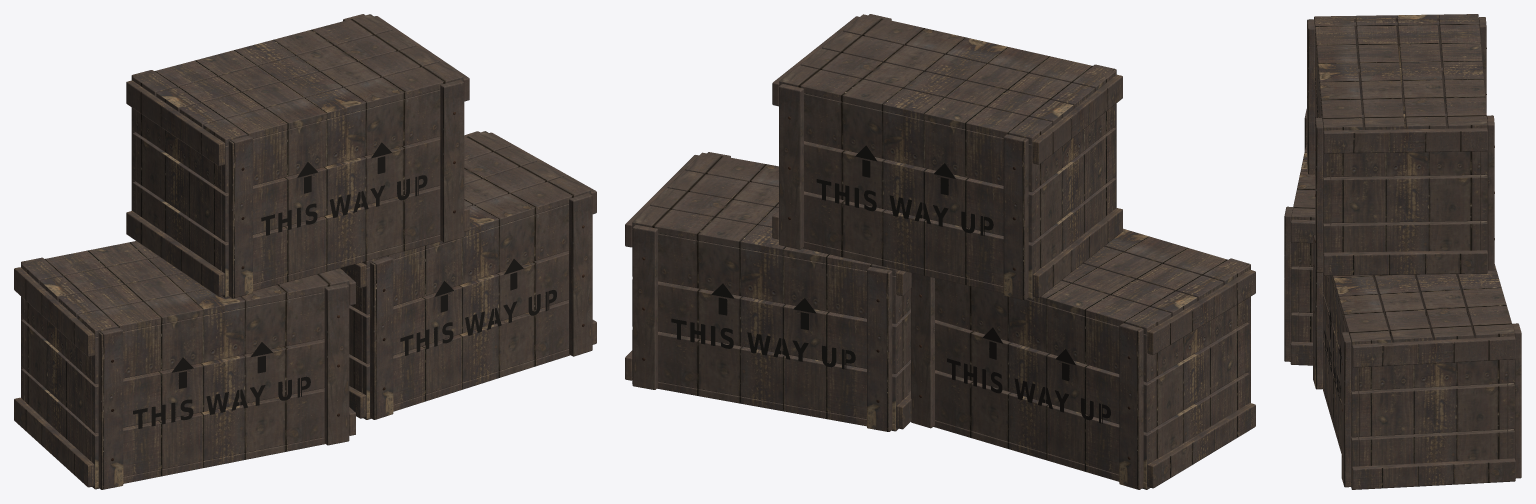
File: works-pop-up.glb
3 renders of one model, left to right at view 1: azimuth 30°, elevation 25°; view 2: azimuth 150°, elevation 25°; view 3: azimuth 270°, elevation 25°, orthographic. The views are drawn at different scales.
Parts seen in each view (by area): view 1: crate.008, crate.006, crate.007, stencil-front.006, stencil-front.008, stencil-front.007; view 2: crate.008, crate.006, crate.007, stencil-back.007, stencil-back.008, stencil-back.006; view 3: crate.008, crate.007, crate.006, stencil-front.007.
Boxes of the visible parts, left/top/right/bottom form: crate.008: left=126, top=14, right=469, bottom=298; crate.006: left=14, top=241, right=355, bottom=489; crate.007: left=340, top=131, right=596, bottom=419; stencil-front.006: left=133, top=342, right=310, bottom=428; stencil-front.008: left=261, top=142, right=427, bottom=235; stencil-front.007: left=400, top=259, right=556, bottom=355; crate.008: left=772, top=14, right=1122, bottom=300; crate.006: left=908, top=228, right=1255, bottom=489; crate.007: left=625, top=152, right=911, bottom=431; stencil-back.007: left=671, top=283, right=855, bottom=369; stencil-back.008: left=816, top=145, right=993, bottom=236; stencil-back.006: left=947, top=327, right=1110, bottom=423; crate.008: left=1307, top=14, right=1494, bottom=275; crate.007: left=1313, top=234, right=1521, bottom=489; crate.006: left=1284, top=109, right=1315, bottom=365; stencil-front.007: left=1324, top=311, right=1341, bottom=401.
Size of the model in its own units: 1.74 by 1 by 0.7218.
Materials: 4 (4 with a texture image).
